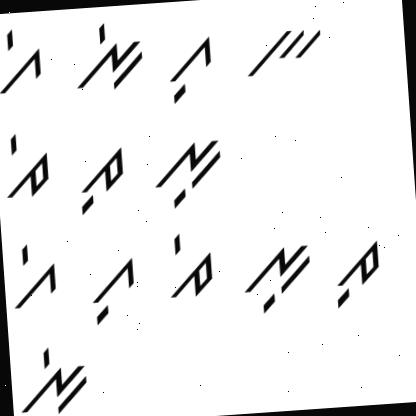ge: (8, 240, 62, 314), (0, 25, 49, 97)
gu: (82, 252, 143, 330), (160, 28, 220, 107)
nge: (13, 338, 92, 416), (68, 20, 150, 95)
ngu: (234, 237, 318, 316), (150, 134, 231, 212)
te: (164, 232, 219, 306), (0, 129, 54, 202)
tu: (330, 233, 390, 312), (74, 143, 132, 217)
